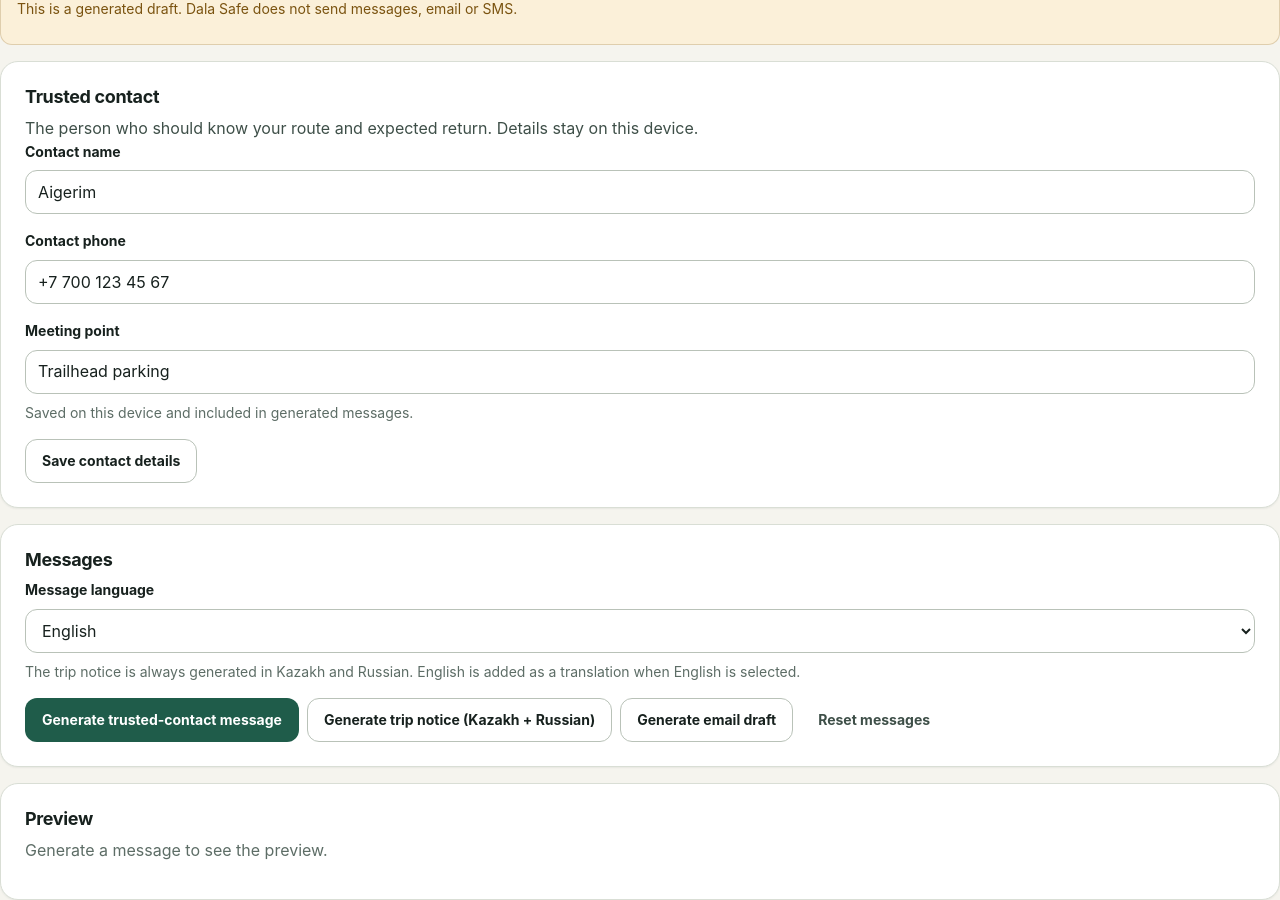
Test case: SharePage › renders Kazakh and Russian notices plus an English translation
This screenshot has width=1280, height=900.
(page scrolled)
Click the button "Generate trip notice (Kazakh + Russian)": coordinates (460, 720) [307, 698, 612, 742]
(page scrolled)
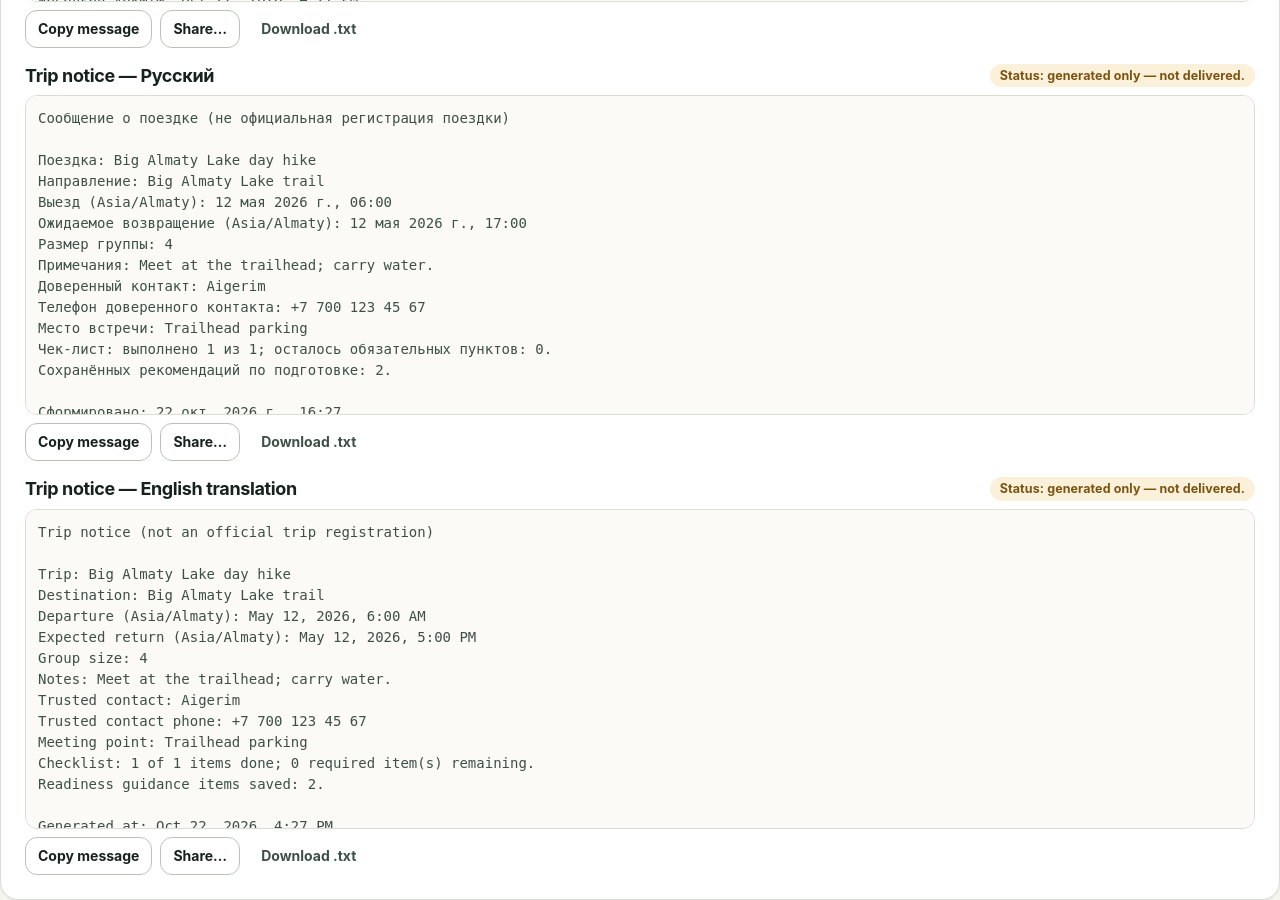
Expected: the text with class "sharing-preview" shows "Сообщение о поездке", [38, 110, 1243, 462]
Expected: the text with class "sharing-preview" shows "Trip notice", [38, 524, 1193, 876]
